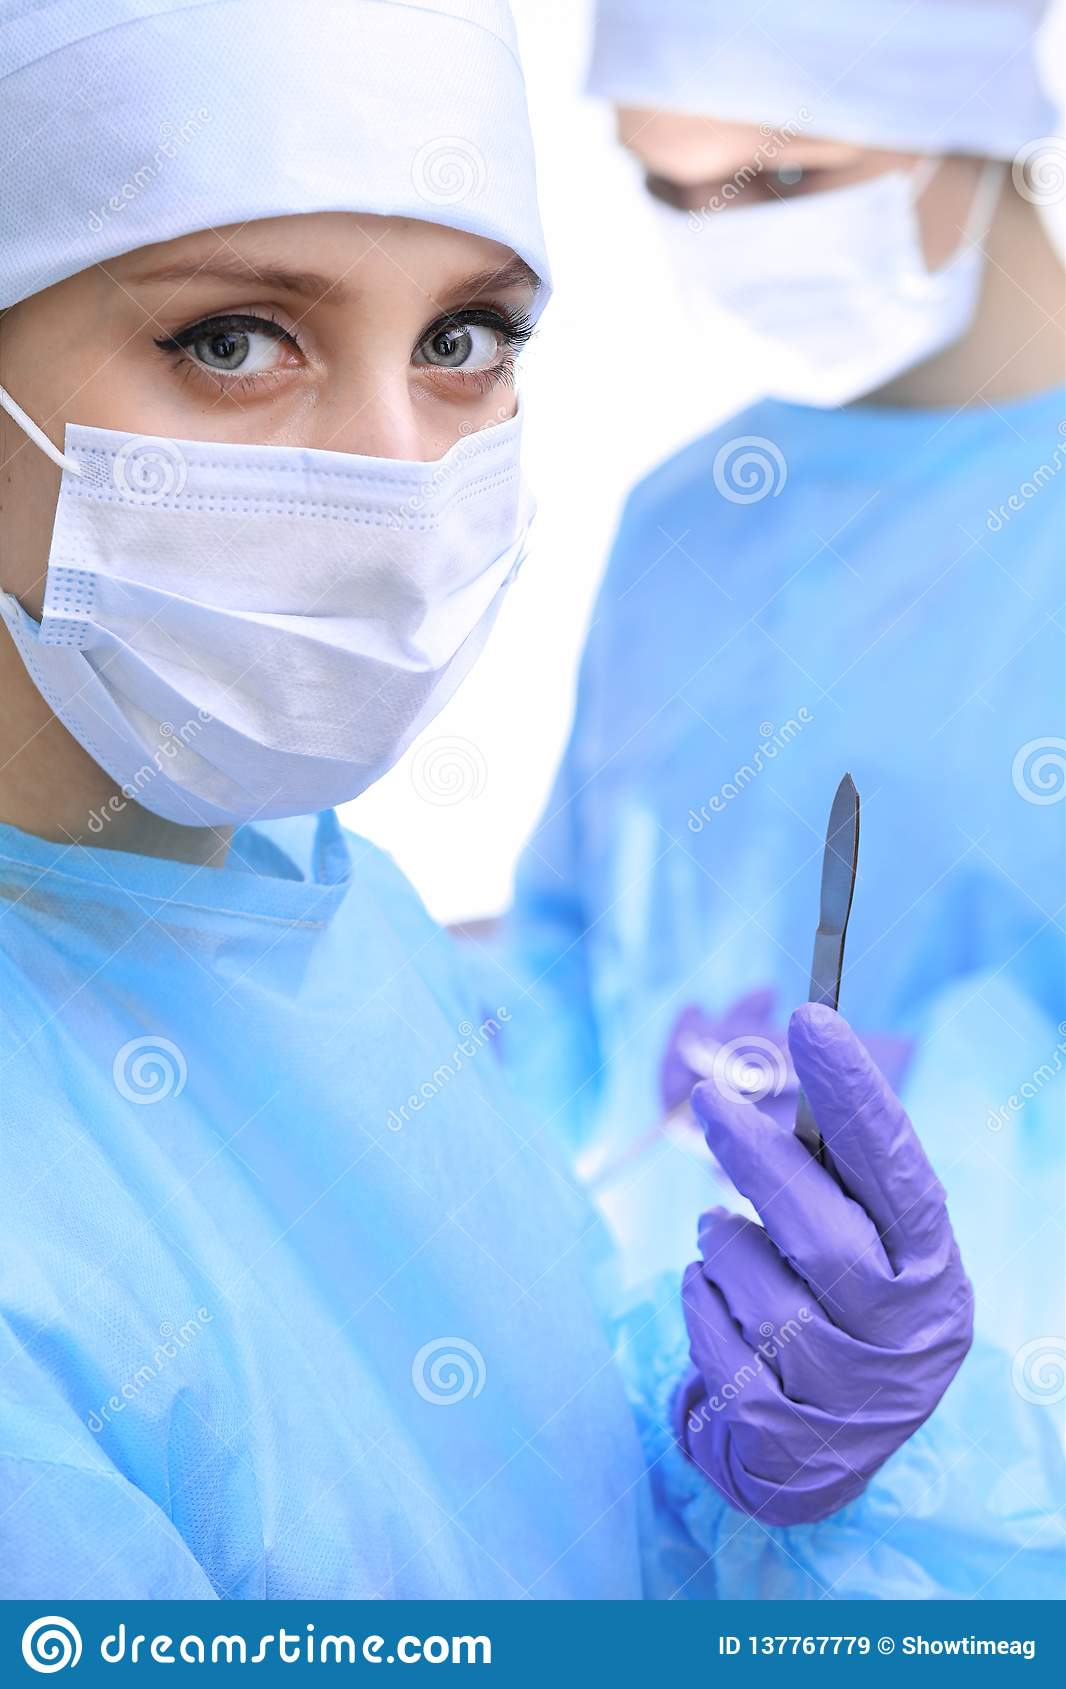mask: (45, 430, 551, 825)
